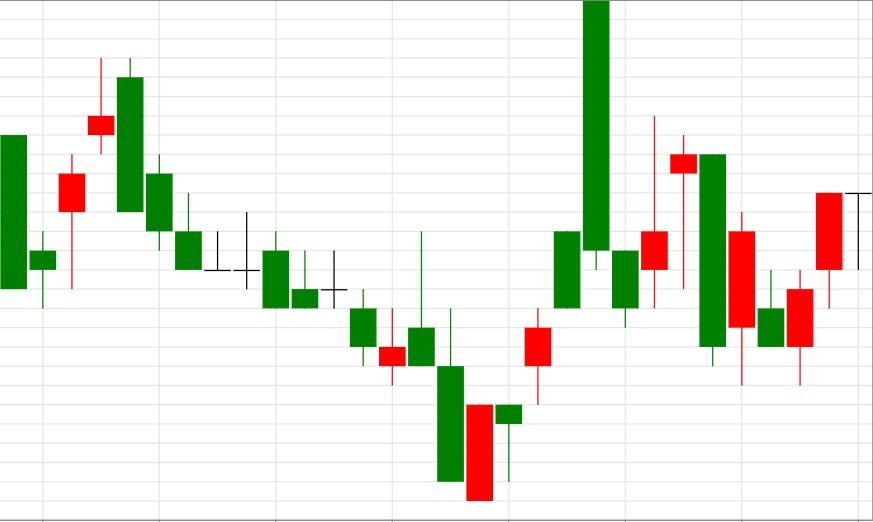bearish_engulfing_fall: (0, 58, 145, 308)
bullish_engulfing_rise: (668, 135, 815, 386)
hanging_man_fall: (611, 115, 699, 327)
